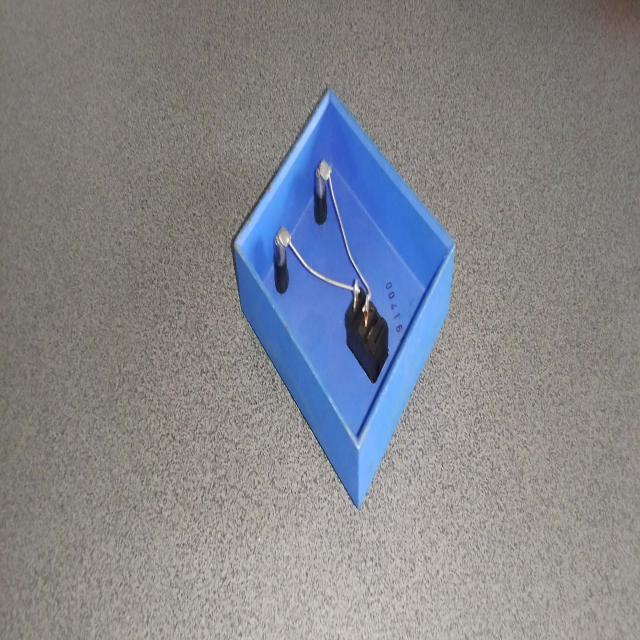ON-OFF Switch: (227, 68, 464, 514)
